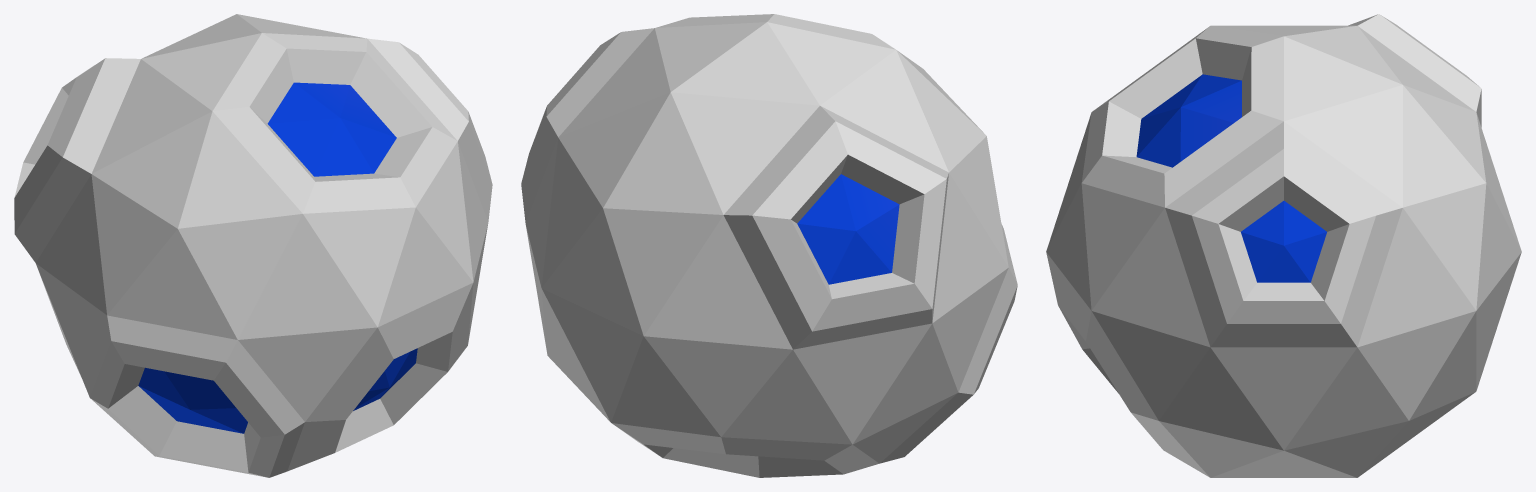
File: Meteorite.fbx
3 views of the same model, side by side, from view 1: azimuth 30°, elevation 25°; view 2: azimuth 150°, elevation 25°; view 3: azimuth 270°, elevation 25° (orthographic). The views are drawn at different scales.
Parts seen in each view (by area): view 1: Icosphere; view 2: Icosphere; view 3: Icosphere.
Boxes of the visible parts, x1,y1,x2,y2 form: Icosphere: (14,14,492,477); Icosphere: (521,14,1017,477); Icosphere: (1046,14,1521,477).
Bounding box in the file's own units: 7.31 × 7.24 × 7.24.
